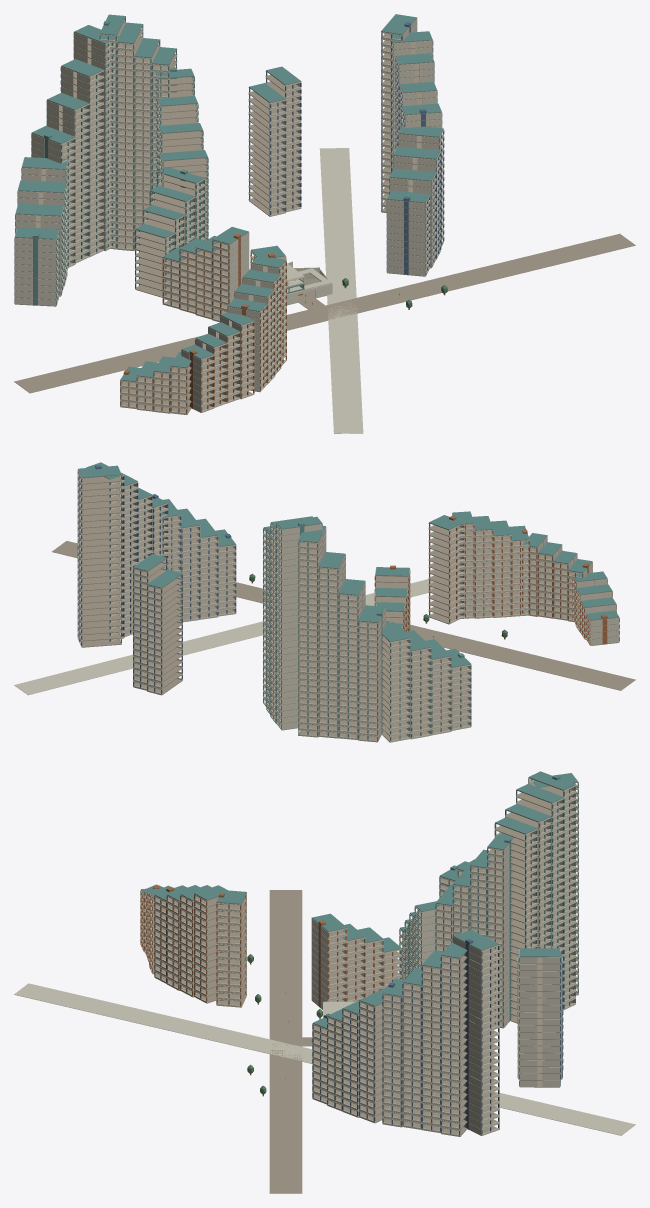
The picture shows the model from 3 angles, top to bottom: view 1: azimuth 30°, elevation 25°; view 2: azimuth 150°, elevation 25°; view 3: azimuth 270°, elevation 25°; orthographic projection. The views are drawn at different scales.
Parts seen in each view (by area): view 1: LIVING_WINDOWED_INHABITED_WALLS, LIVING_ACTUAL_FLOORS, RESEARCH_WINDOWED_INHABITED_WALLS, MAKER_WINDOWED_INHABITED_WALLS, CIVIC_AXIS_B_ACTUAL_STREET, CIVIC_AXIS_A_ACTUAL_STREET, RESEARCH_ACTUAL_FLOORS, MAKER_ACTUAL_FLOORS, LIVING_ROOF_TERRACES, LIVING_CERAMIC_WINDOW_PIERS, MAKER_ROOF_TERRACES, RESEARCH_ROOF_TERRACES (+3 smaller); view 2: LIVING_WINDOWED_INHABITED_WALLS, RESEARCH_ACTUAL_FLOORS, LIVING_ACTUAL_FLOORS, RESEARCH_WINDOWED_INHABITED_WALLS, MAKER_ACTUAL_FLOORS, MAKER_WINDOWED_INHABITED_WALLS, LIVING_CERAMIC_WINDOW_PIERS, CIVIC_AXIS_A_ACTUAL_STREET, MAKER_ROOF_TERRACES, RESEARCH_CERAMIC_WINDOW_PIERS, CIVIC_AXIS_B_ACTUAL_STREET, LIVING_ROOF_TERRACES (+2 smaller); view 3: RESEARCH_WINDOWED_INHABITED_WALLS, RESEARCH_ACTUAL_FLOORS, LIVING_WINDOWED_INHABITED_WALLS, LIVING_ACTUAL_FLOORS, CIVIC_AXIS_A_ACTUAL_STREET, MAKER_WINDOWED_INHABITED_WALLS, MAKER_ACTUAL_FLOORS, CIVIC_AXIS_B_ACTUAL_STREET, RESEARCH_CERAMIC_WINDOW_PIERS, LIVING_CERAMIC_WINDOW_PIERS, MAKER_CERAMIC_WINDOW_PIERS, LIVING_ROOF_TERRACES (+3 smaller).
Boxes of the visible parts, x1,y1,x2,y2 form: LIVING_WINDOWED_INHABITED_WALLS: [14, 17, 208, 305]; LIVING_ACTUAL_FLOORS: [15, 17, 207, 306]; RESEARCH_WINDOWED_INHABITED_WALLS: [248, 18, 443, 276]; MAKER_WINDOWED_INHABITED_WALLS: [120, 232, 286, 414]; CIVIC_AXIS_B_ACTUAL_STREET: [319, 148, 363, 433]; CIVIC_AXIS_A_ACTUAL_STREET: [14, 233, 635, 393]; RESEARCH_ACTUAL_FLOORS: [249, 18, 443, 276]; MAKER_ACTUAL_FLOORS: [120, 232, 286, 414]; LIVING_ROOF_TERRACES: [15, 14, 207, 239]; LIVING_CERAMIC_WINDOW_PIERS: [14, 18, 208, 304]; MAKER_ROOF_TERRACES: [120, 227, 286, 381]; RESEARCH_ROOF_TERRACES: [249, 14, 443, 202]; LIVING_WINDOWED_INHABITED_WALLS: [263, 523, 471, 742]; RESEARCH_ACTUAL_FLOORS: [78, 469, 236, 695]; LIVING_ACTUAL_FLOORS: [264, 523, 471, 742]; RESEARCH_WINDOWED_INHABITED_WALLS: [77, 470, 236, 694]; MAKER_ACTUAL_FLOORS: [375, 514, 619, 645]; MAKER_WINDOWED_INHABITED_WALLS: [374, 513, 619, 645]; LIVING_CERAMIC_WINDOW_PIERS: [263, 524, 471, 740]; CIVIC_AXIS_A_ACTUAL_STREET: [52, 541, 635, 690]; MAKER_ROOF_TERRACES: [375, 511, 618, 628]; RESEARCH_CERAMIC_WINDOW_PIERS: [77, 471, 236, 693]; CIVIC_AXIS_B_ACTUAL_STREET: [14, 550, 562, 695]; LIVING_ROOF_TERRACES: [264, 516, 470, 667]; RESEARCH_WINDOWED_INHABITED_WALLS: [312, 937, 562, 1136]; RESEARCH_ACTUAL_FLOORS: [312, 936, 562, 1136]; LIVING_WINDOWED_INHABITED_WALLS: [399, 778, 578, 1027]; LIVING_ACTUAL_FLOORS: [400, 777, 578, 1028]; CIVIC_AXIS_A_ACTUAL_STREET: [269, 890, 302, 1193]; MAKER_WINDOWED_INHABITED_WALLS: [140, 890, 402, 1009]; MAKER_ACTUAL_FLOORS: [141, 890, 401, 1009]; CIVIC_AXIS_B_ACTUAL_STREET: [14, 983, 635, 1135]; RESEARCH_CERAMIC_WINDOW_PIERS: [312, 937, 563, 1135]; LIVING_CERAMIC_WINDOW_PIERS: [399, 778, 578, 1026]; MAKER_CERAMIC_WINDOW_PIERS: [140, 891, 401, 1005]; LIVING_ROOF_TERRACES: [400, 771, 578, 933].
Bounding box in the file's own units: 570 × 195 × 494.
